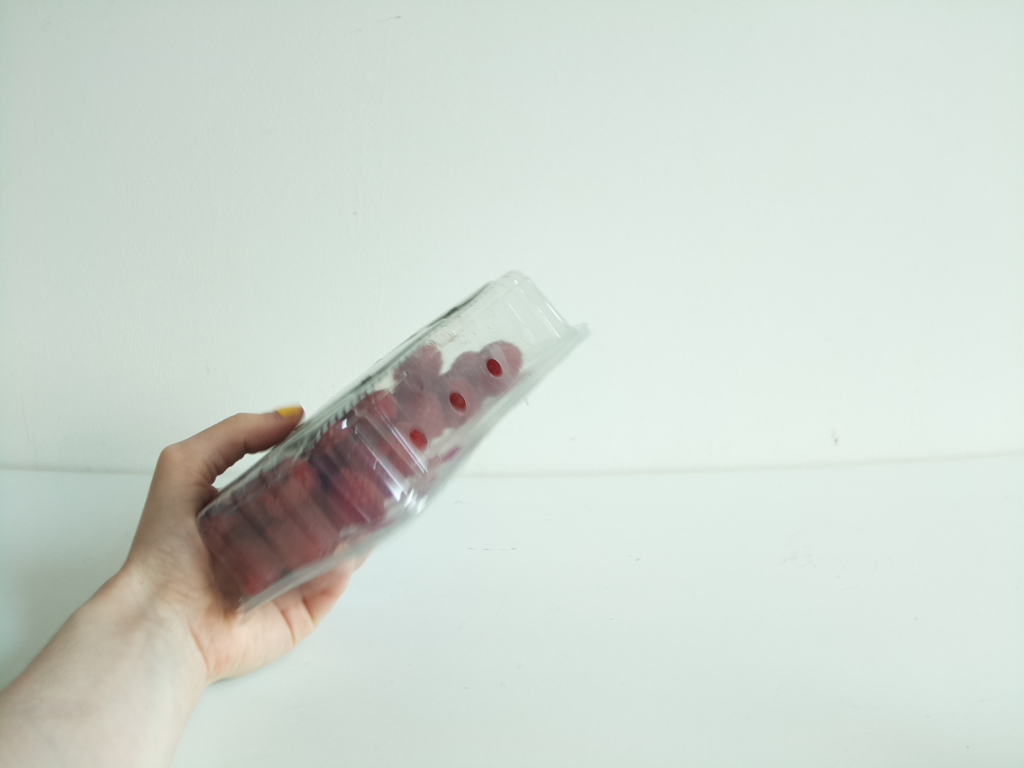soft-fruit: (191, 268, 591, 619)
